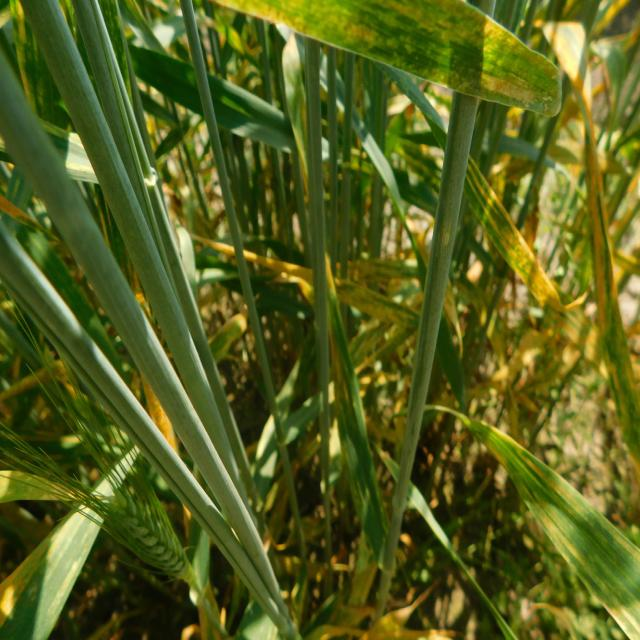wheat-yellowrust: (466, 154, 569, 309), (377, 0, 561, 81), (583, 105, 621, 338), (0, 518, 69, 631), (204, 238, 315, 301), (211, 0, 307, 36), (143, 381, 181, 458), (470, 74, 540, 105), (326, 17, 381, 48)
